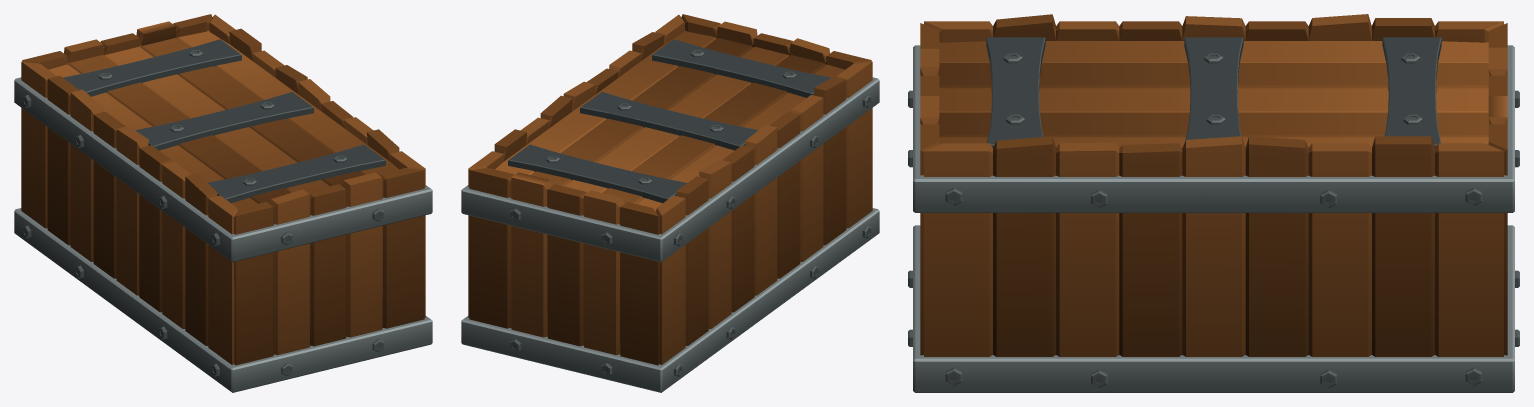
3 views of the same model, side by side, from view 1: azimuth 30°, elevation 25°; view 2: azimuth 150°, elevation 25°; view 3: azimuth 270°, elevation 25° (orthographic). The views are drawn at different scales.
Visible parts, largest first — view 1: Box-2-1; view 2: Box-2-1; view 3: Box-2-1.
Part boxes in pixels (bbox=[...]): Box-2-1: bbox=[14, 14, 432, 392]; Box-2-1: bbox=[461, 14, 879, 392]; Box-2-1: bbox=[908, 14, 1519, 392].
Bounding box in the file's own units: 148 × 122 × 273.
